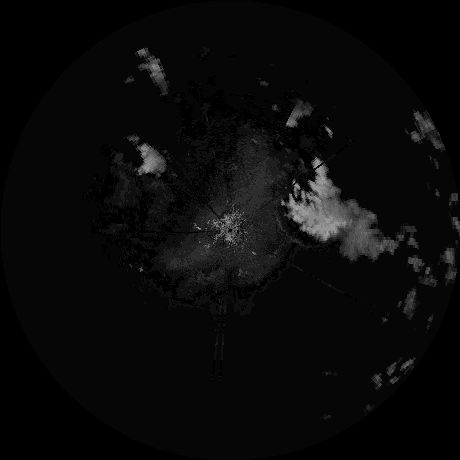frontgust: (273, 213, 309, 249)
